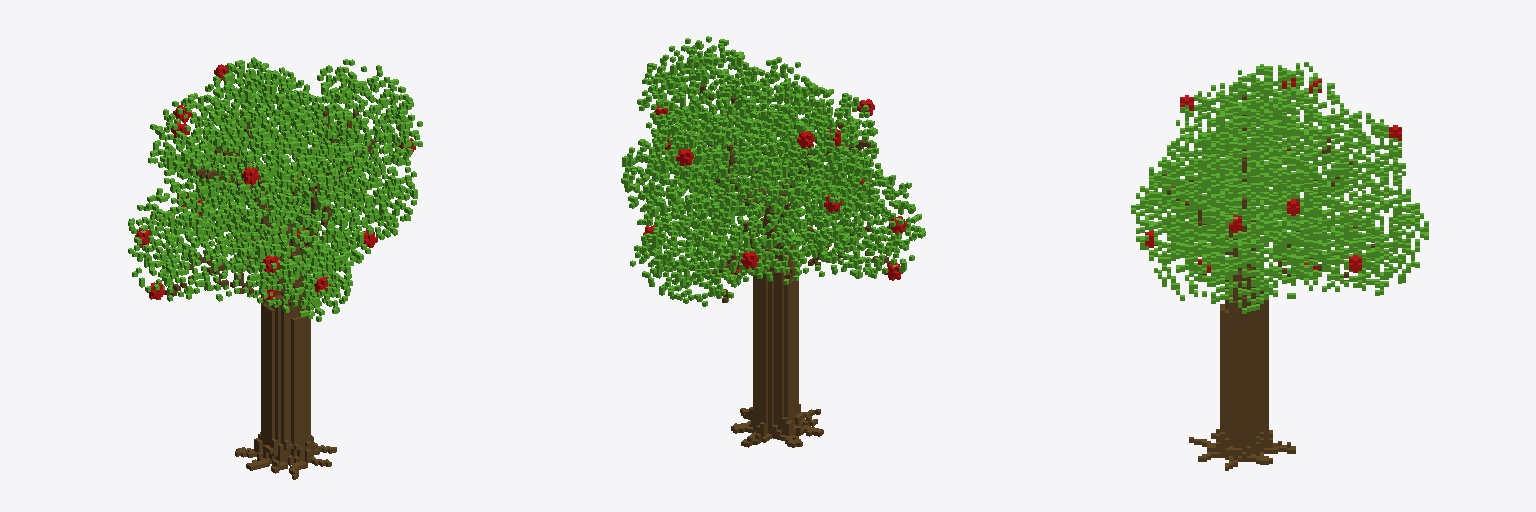
The picture shows the model from 3 angles: view 1: azimuth 30°, elevation 25°; view 2: azimuth 150°, elevation 25°; view 3: azimuth 270°, elevation 25°; orthographic projection.
Parts seen in each view (by area): view 1: object 1; view 2: object 1; view 3: object 1.
Part boxes in pixels (x1,y1,x2,y2): object 1: (128,57,422,479); object 1: (621,36,925,447); object 1: (1131,62,1428,470).
Size of the model in its own units: 7.2 by 9.4 by 6.7.
Materials: 1 (1 with a texture image).